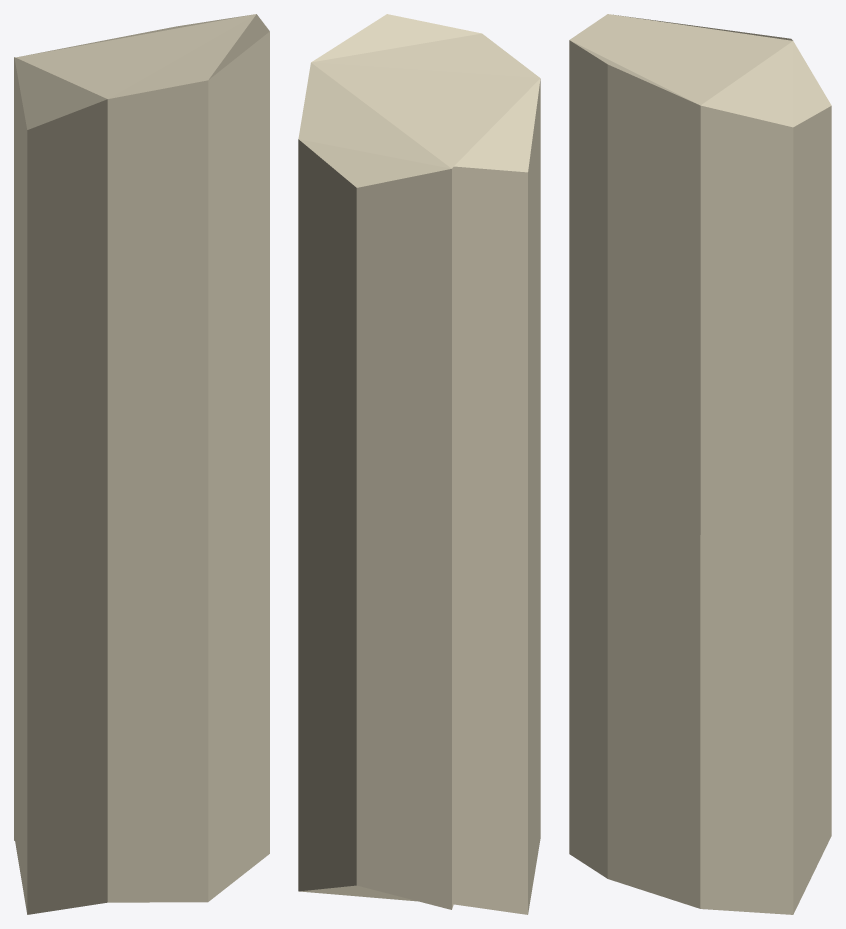
The model's file is roman_column_broken_mid.fbx.
3 views of the same model, side by side, from view 1: azimuth 30°, elevation 25°; view 2: azimuth 150°, elevation 25°; view 3: azimuth 270°, elevation 25° (orthographic). The views are drawn at different scales.
Visible parts, largest first — view 1: Cylinder.034; view 2: Cylinder.034; view 3: Cylinder.034.
Boxes of the visible parts, left/top/right/bottom form: Cylinder.034: left=14, top=14, right=269, bottom=914; Cylinder.034: left=298, top=14, right=540, bottom=914; Cylinder.034: left=569, top=14, right=831, bottom=914.
Bounding box in the file's own units: 0.7 × 2.54 × 0.7.
